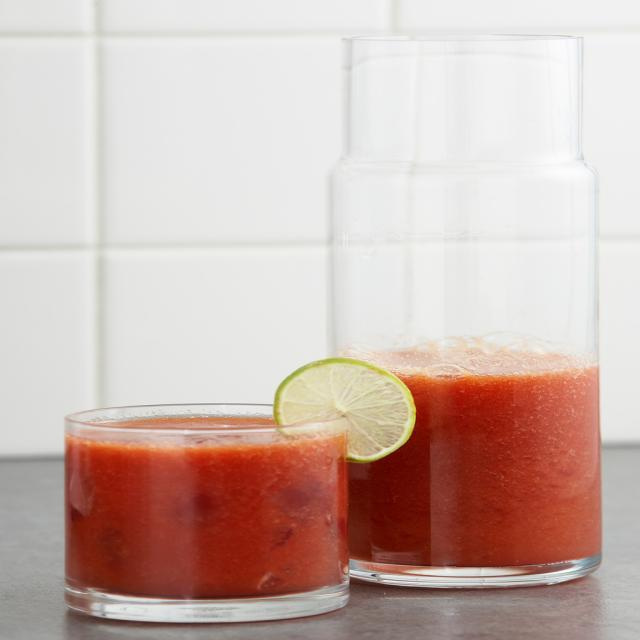Juice: (49, 409, 363, 623), (330, 343, 608, 575)
